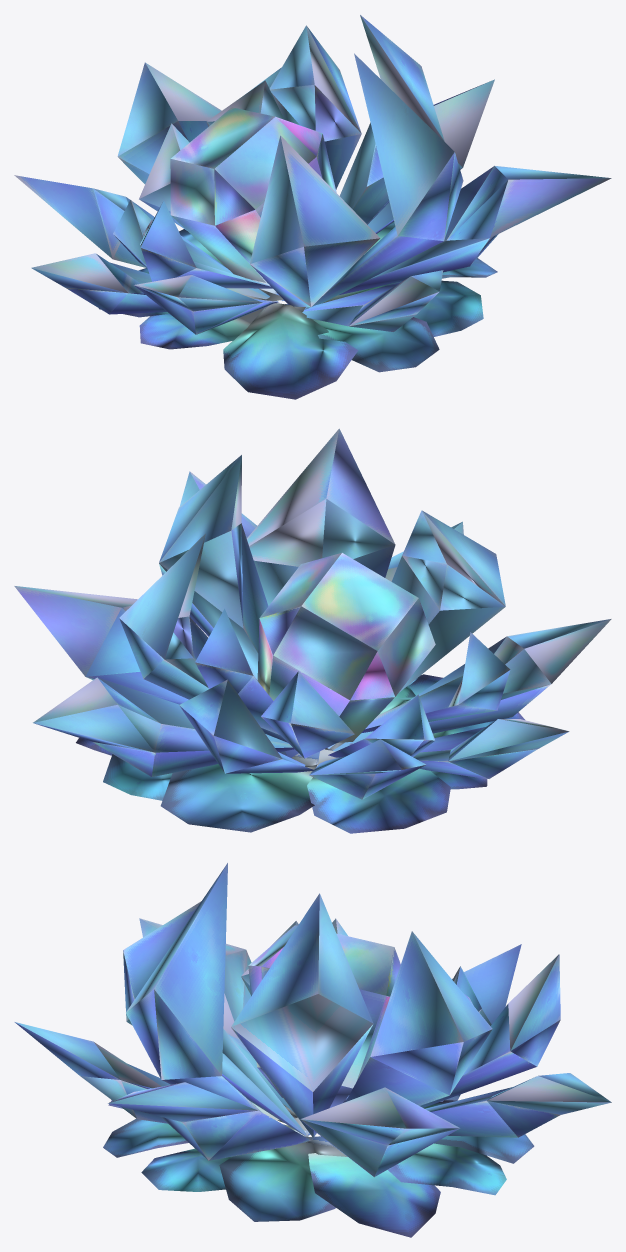
Rendered from herb_snowlotus.glb.
3 views of the same model, one above another, from view 1: azimuth 30°, elevation 25°; view 2: azimuth 150°, elevation 25°; view 3: azimuth 270°, elevation 25° (orthographic). The views are drawn at different scales.
Parts seen in each view (by area): view 1: 庇佑雪莲; view 2: 庇佑雪莲; view 3: 庇佑雪莲.
Part boxes in pixels (left/top/right/bottom): 庇佑雪莲: left=14, top=15, right=611, bottom=399; 庇佑雪莲: left=14, top=428, right=611, bottom=833; 庇佑雪莲: left=14, top=863, right=611, bottom=1237.
Bounding box in the file's own units: 0.8193 × 0.4472 × 0.812.
Materials: 1 (1 with a texture image).
